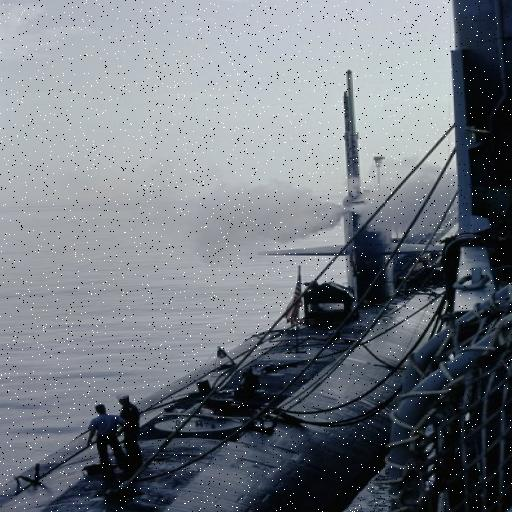submarine: (1, 73, 487, 512)
